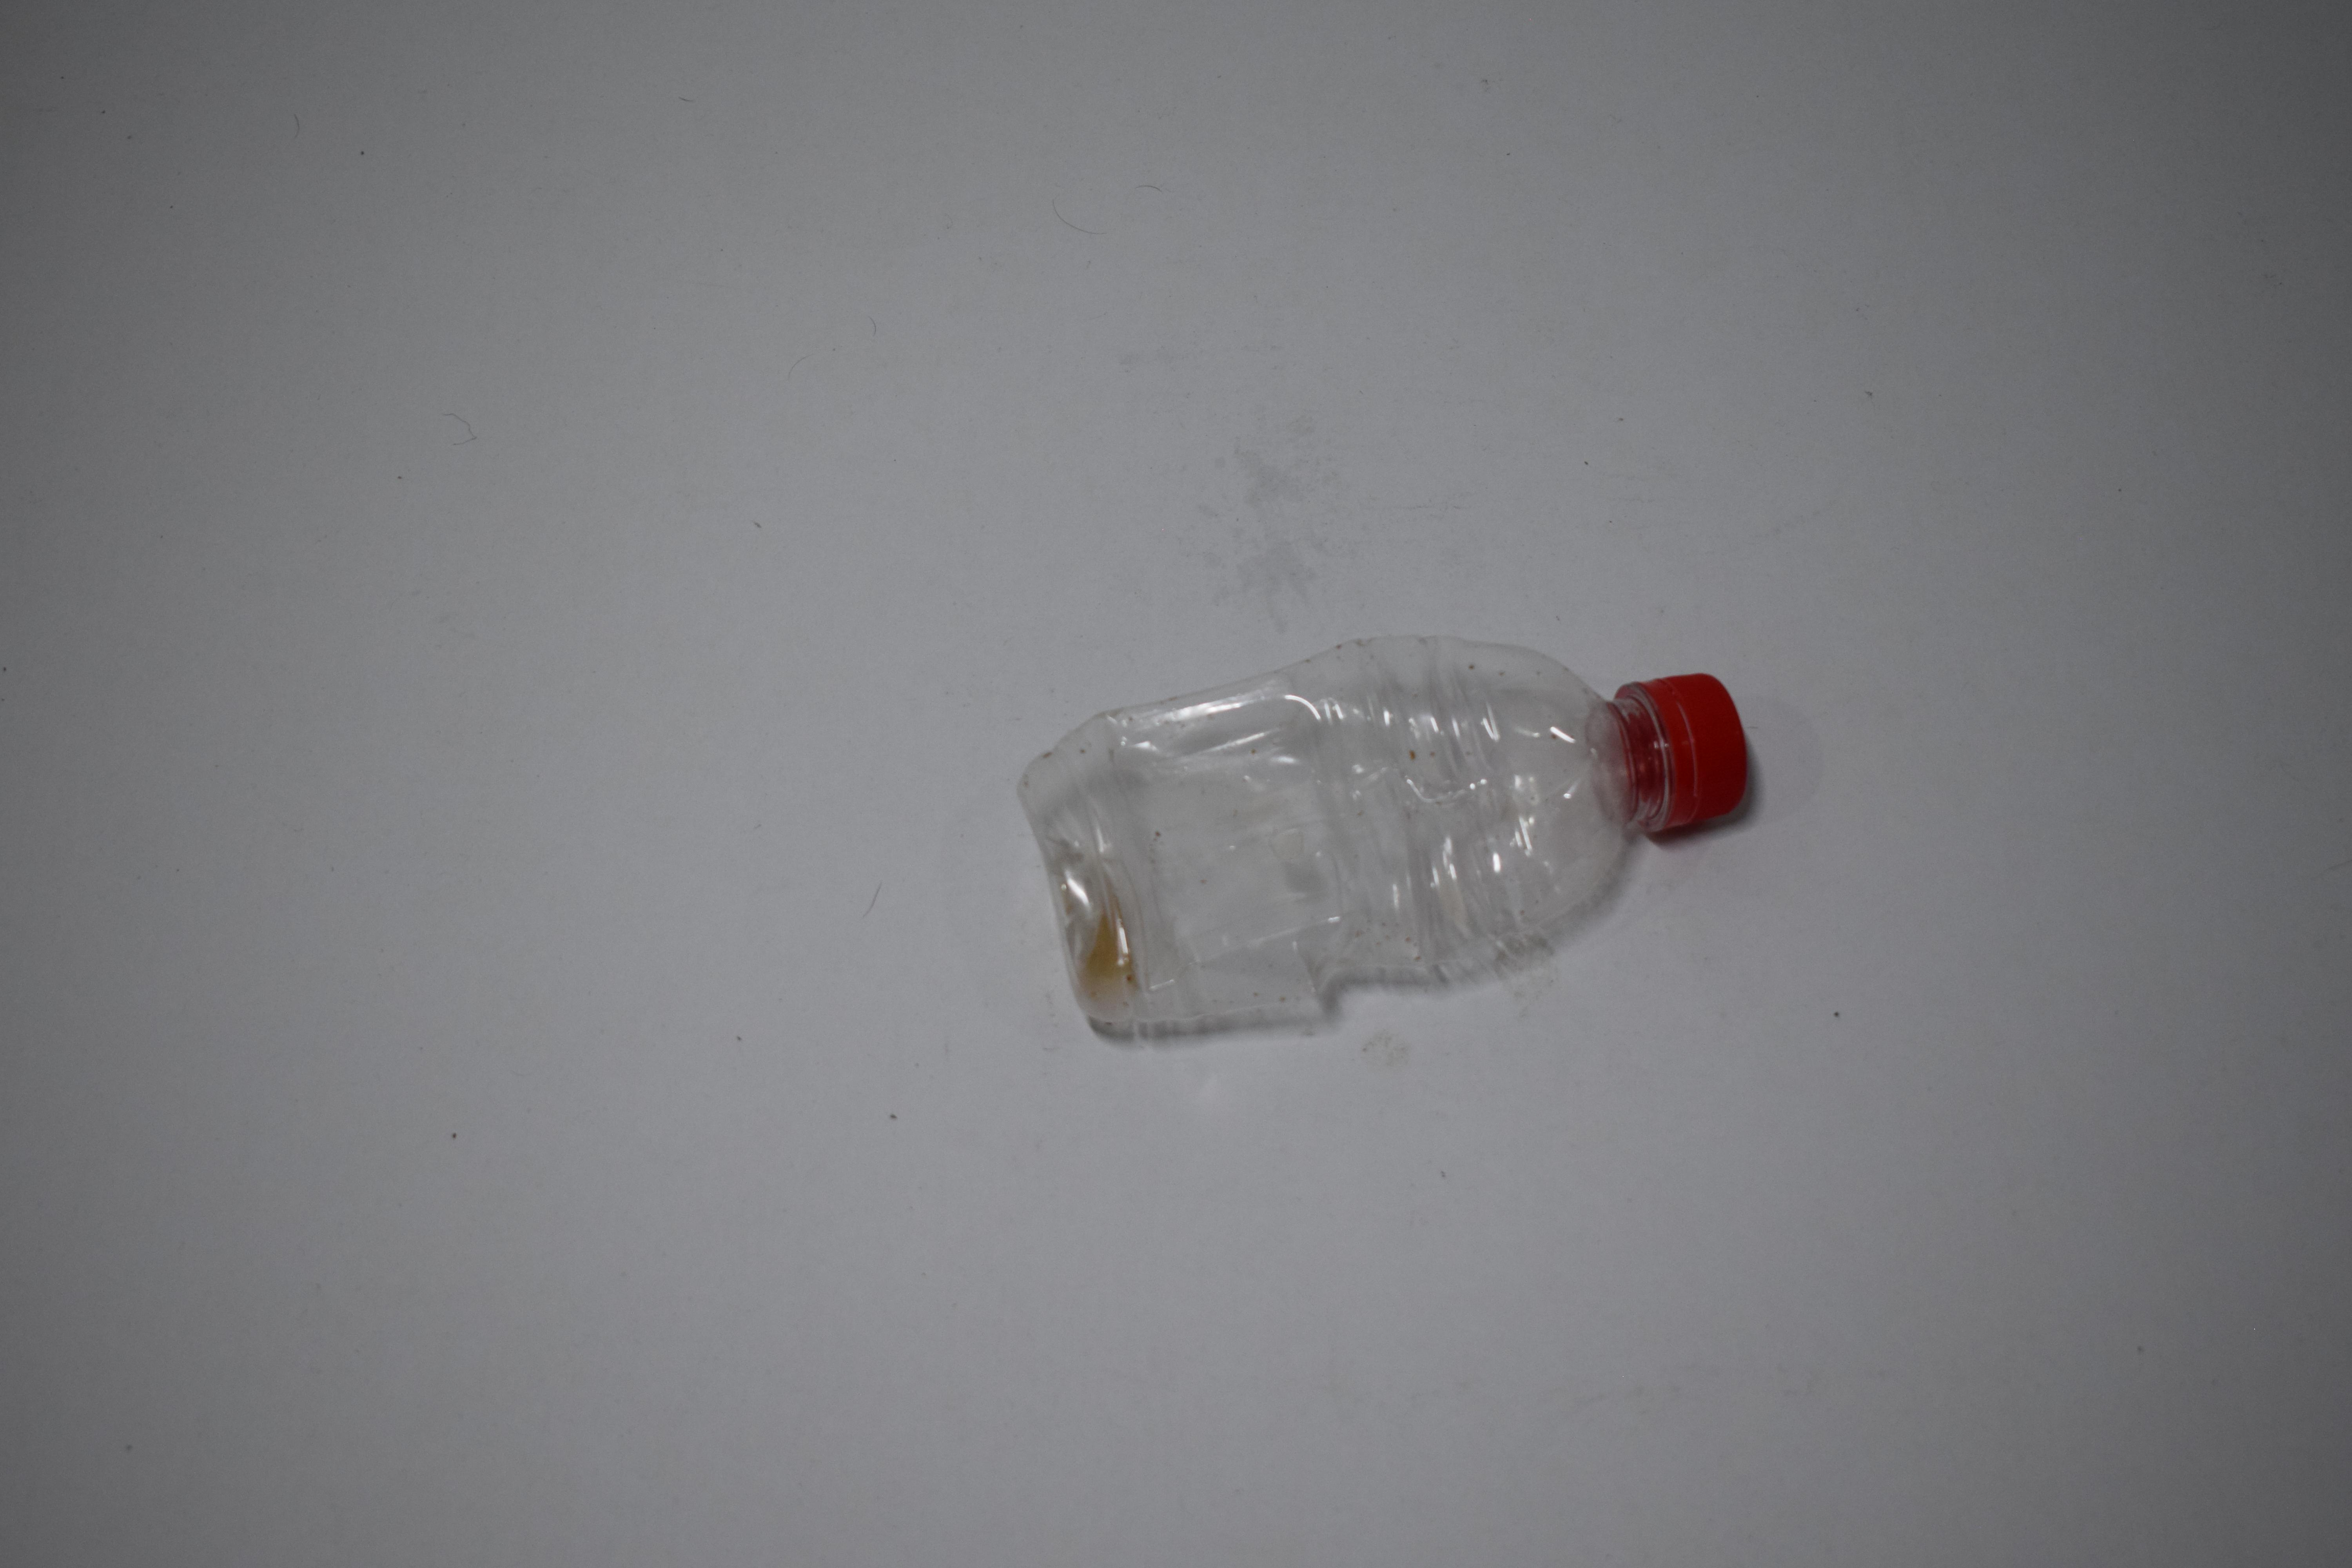bottle: (0, 0, 588, 254)
